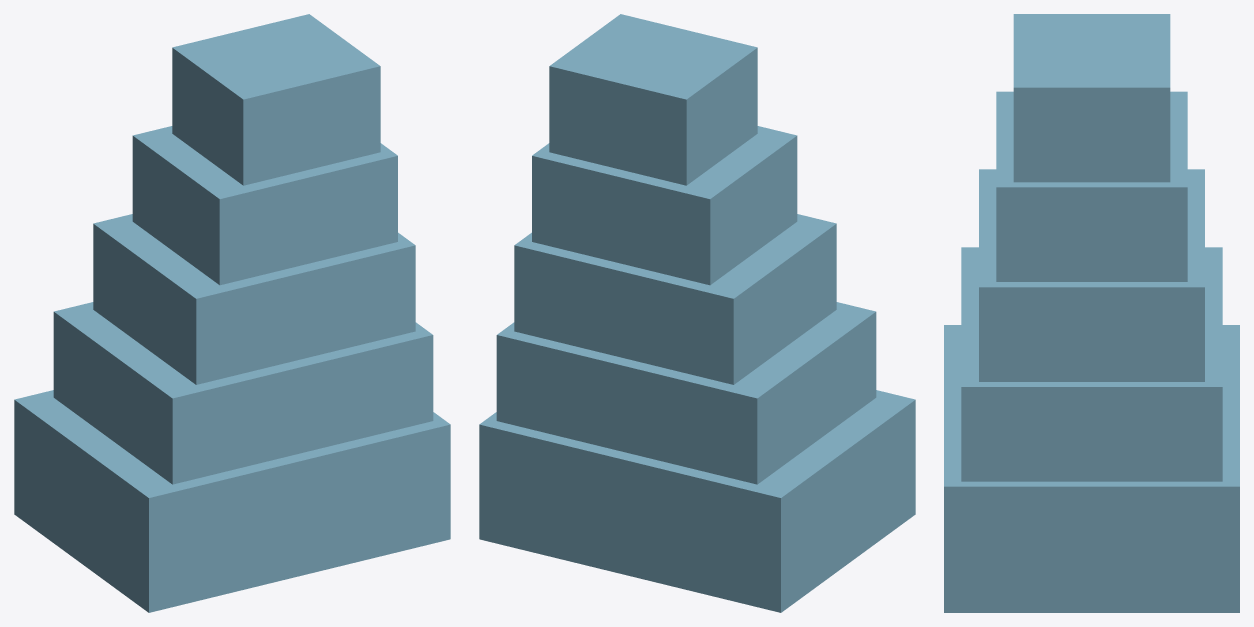
Rendered from modern-2-lod2.glb.
3 views of the same model, side by side, from view 1: azimuth 30°, elevation 25°; view 2: azimuth 150°, elevation 25°; view 3: azimuth 270°, elevation 25° (orthographic). The views are drawn at different scales.
Parts seen in each view (by area): view 1: modern-2_architecture; view 2: modern-2_architecture; view 3: modern-2_architecture.
Boxes of the visible parts, x1,y1,x2,y2 form: modern-2_architecture: (14,14,450,612); modern-2_architecture: (479,14,915,612); modern-2_architecture: (944,14,1239,612).
Size of the model in its own units: 22 by 32 by 17.
